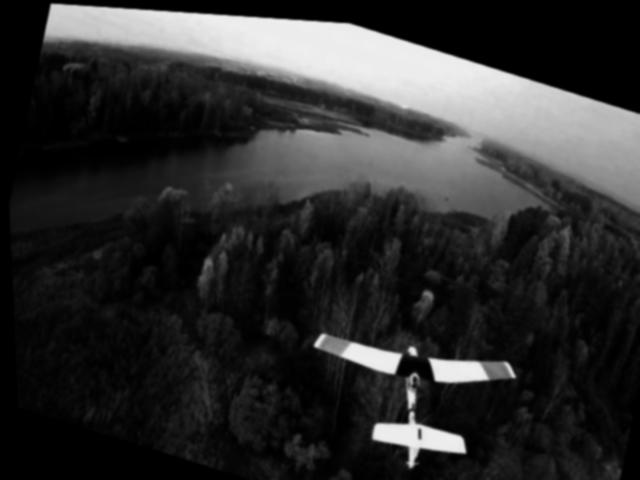hedef: (288, 284, 523, 480)
